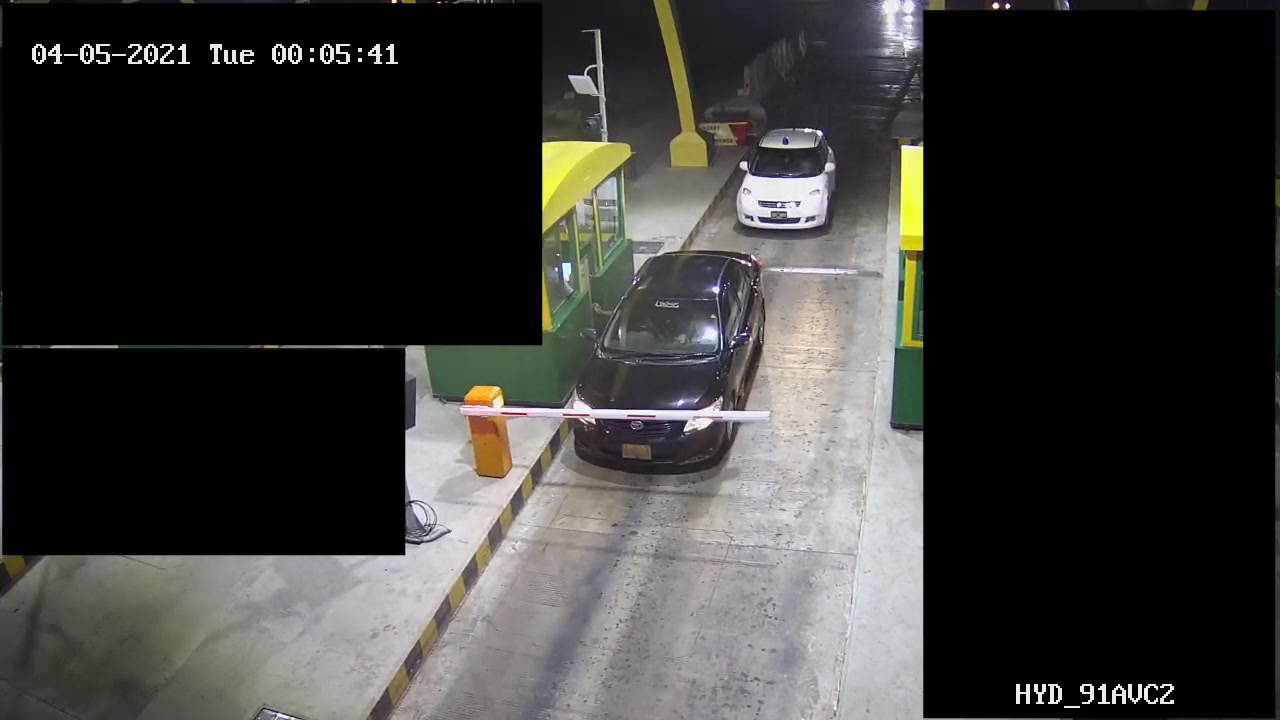F1: (562, 240, 780, 476), (731, 127, 859, 239)
